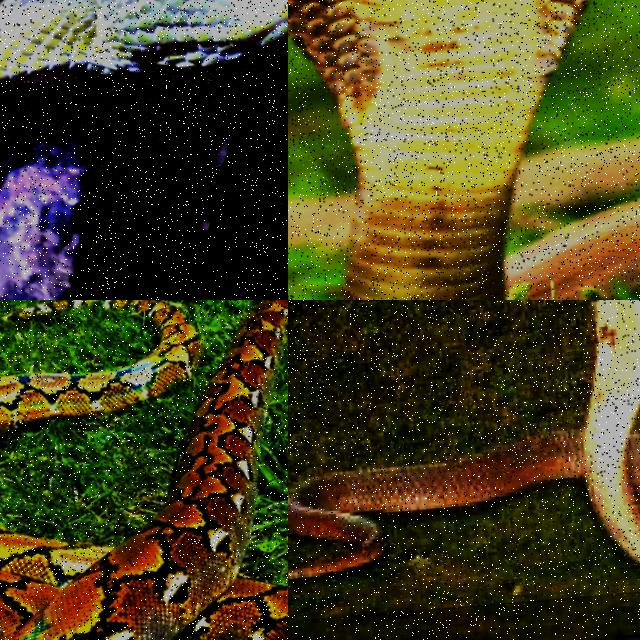Malayopython reticulatus: (0, 300, 287, 639)
Naja kaouthia: (288, 300, 639, 582)
Ophiophagus hannah: (288, 0, 639, 299)
Trimeresurus macrops: (0, 0, 287, 172)
